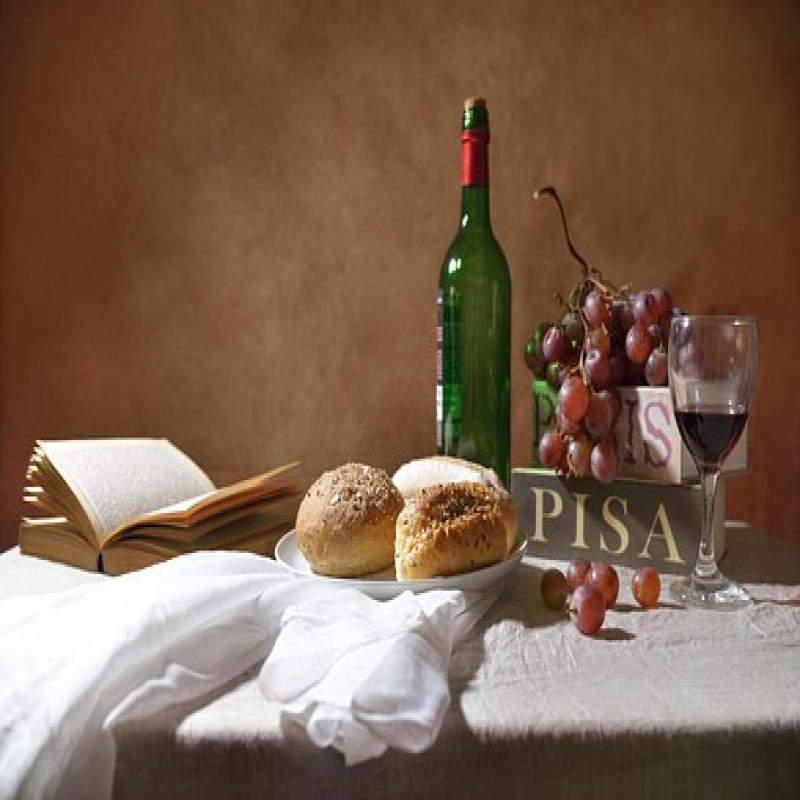wine: (436, 107, 511, 482)
